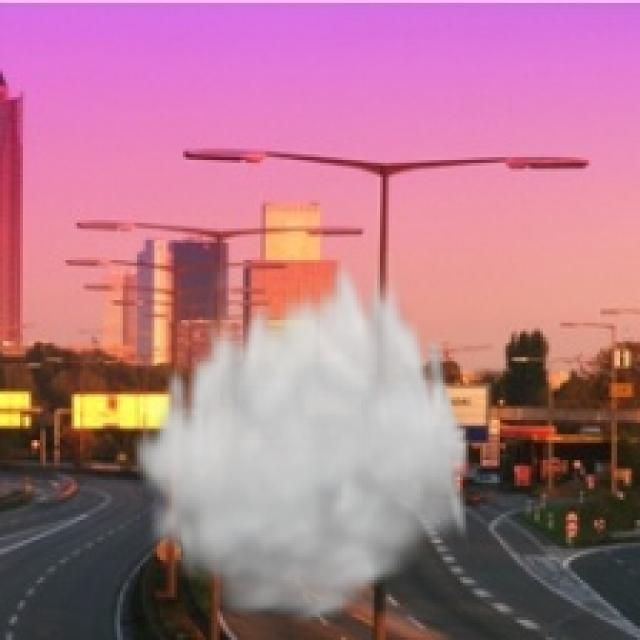smoke: (129, 248, 474, 628)
